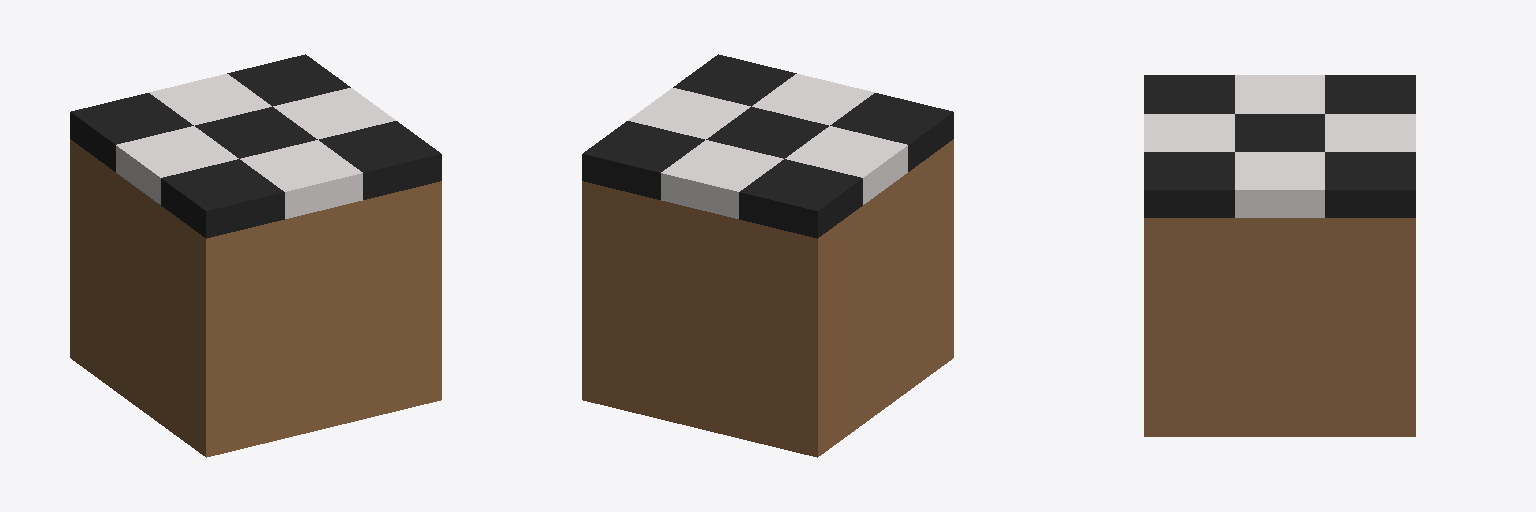
3 renders of one model, left to right at view 1: azimuth 30°, elevation 25°; view 2: azimuth 150°, elevation 25°; view 3: azimuth 270°, elevation 25°, orthographic.
Visible parts, largest first — view 1: Model; view 2: Model; view 3: Model.
Part boxes in pixels (left/top/right/bottom): Model: left=70, top=54, right=441, bottom=457; Model: left=582, top=54, right=953, bottom=457; Model: left=1144, top=75, right=1415, bottom=436.
Bounding box in the file's own units: 32 × 32 × 32.
1 materials, 1 textured.